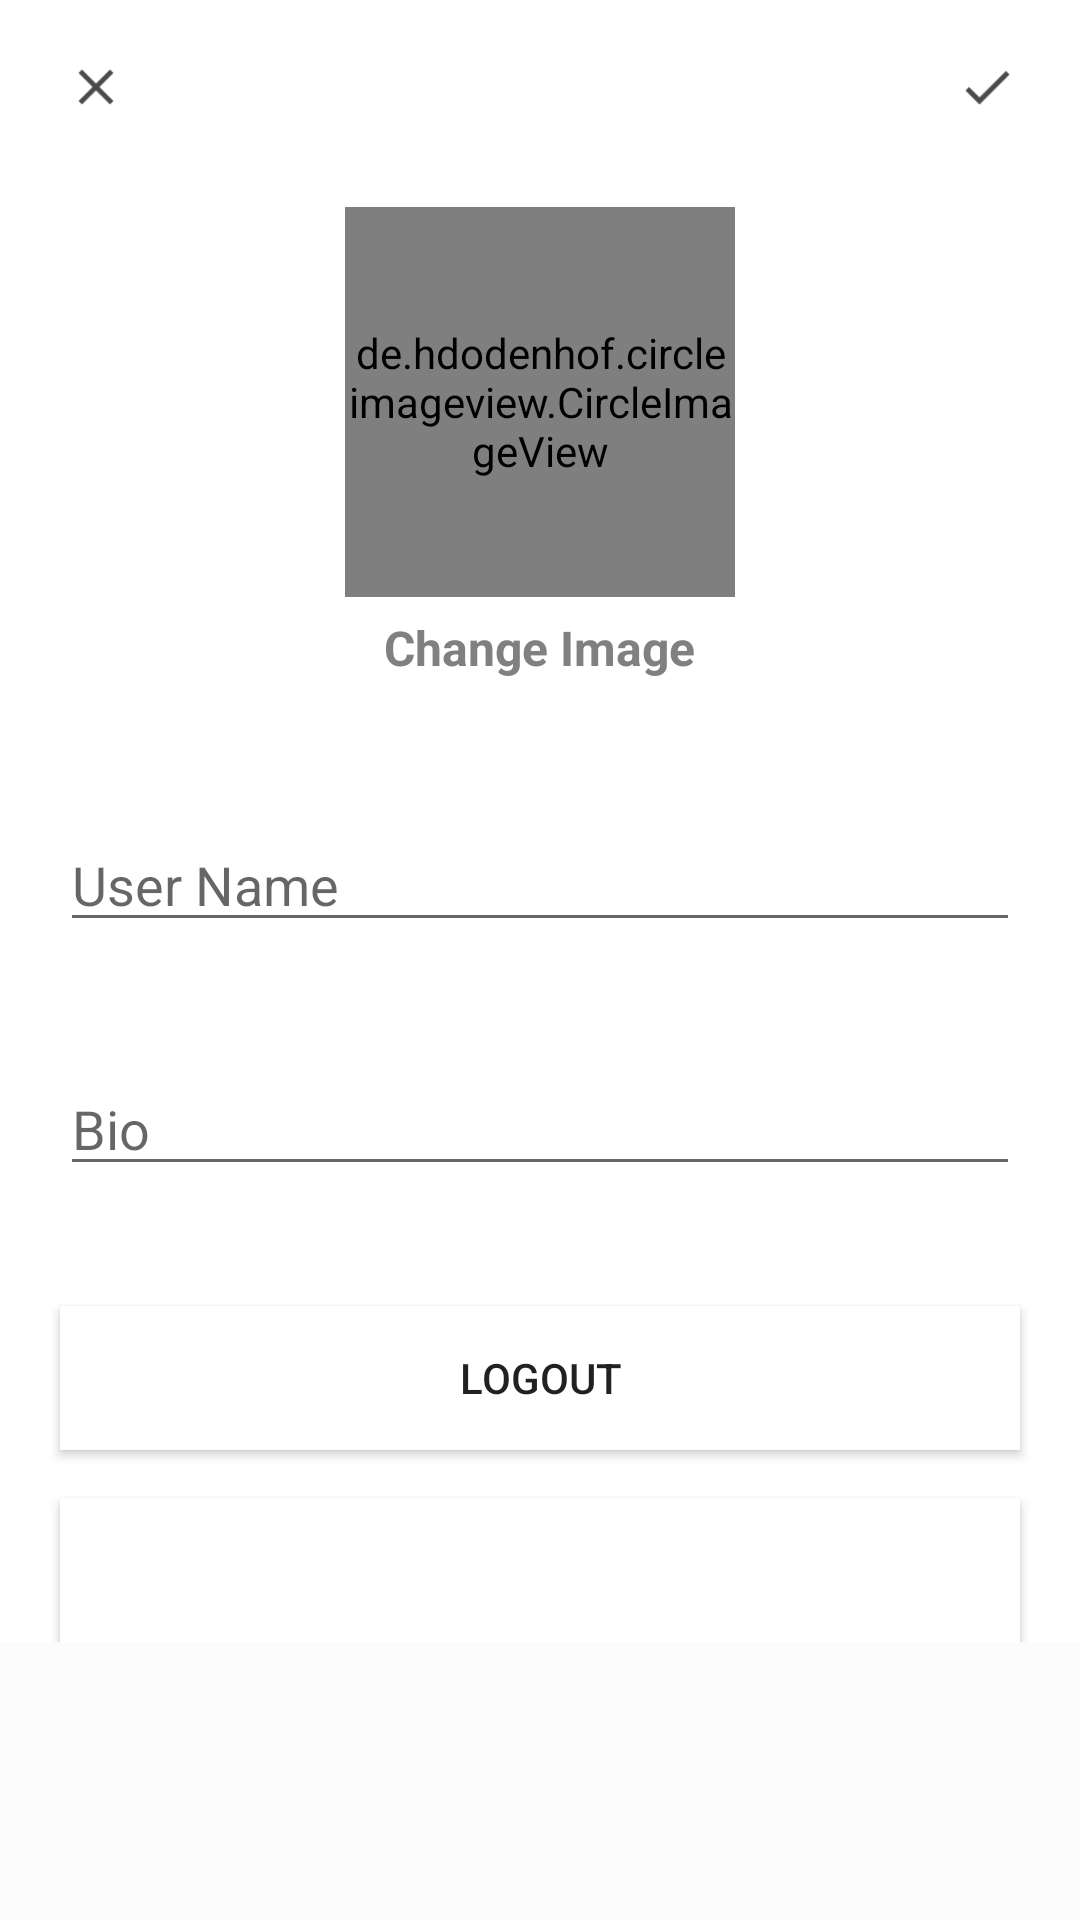

Icon bounding boxes for this 1080*1920 phone screenshot, format rect(x1, y1, x2, y2):
close: rect(78, 69, 114, 105)
done: rect(965, 71, 1010, 105)
